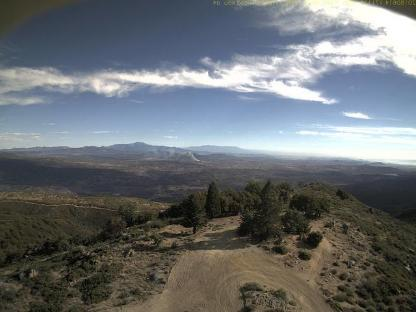smoke: (144, 145, 204, 163)
